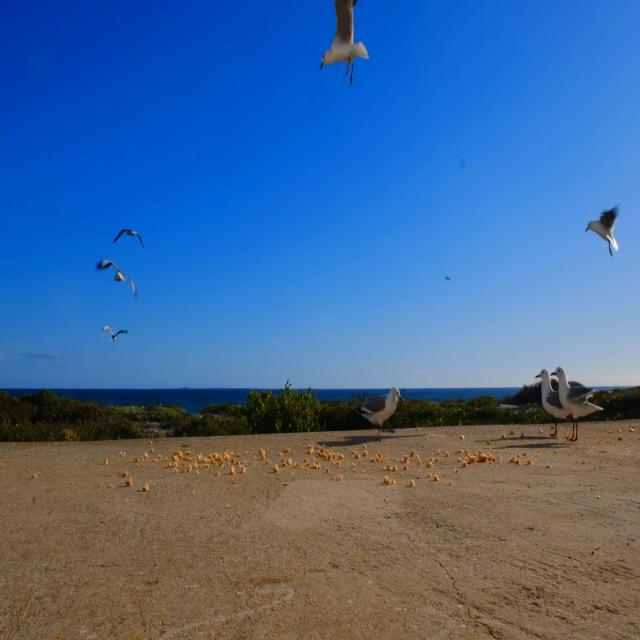bird: (308, 0, 372, 94), (342, 379, 406, 454), (554, 362, 604, 446), (584, 205, 623, 263), (532, 367, 561, 441), (96, 252, 138, 302), (112, 224, 147, 256), (100, 320, 129, 350), (442, 269, 452, 283)
